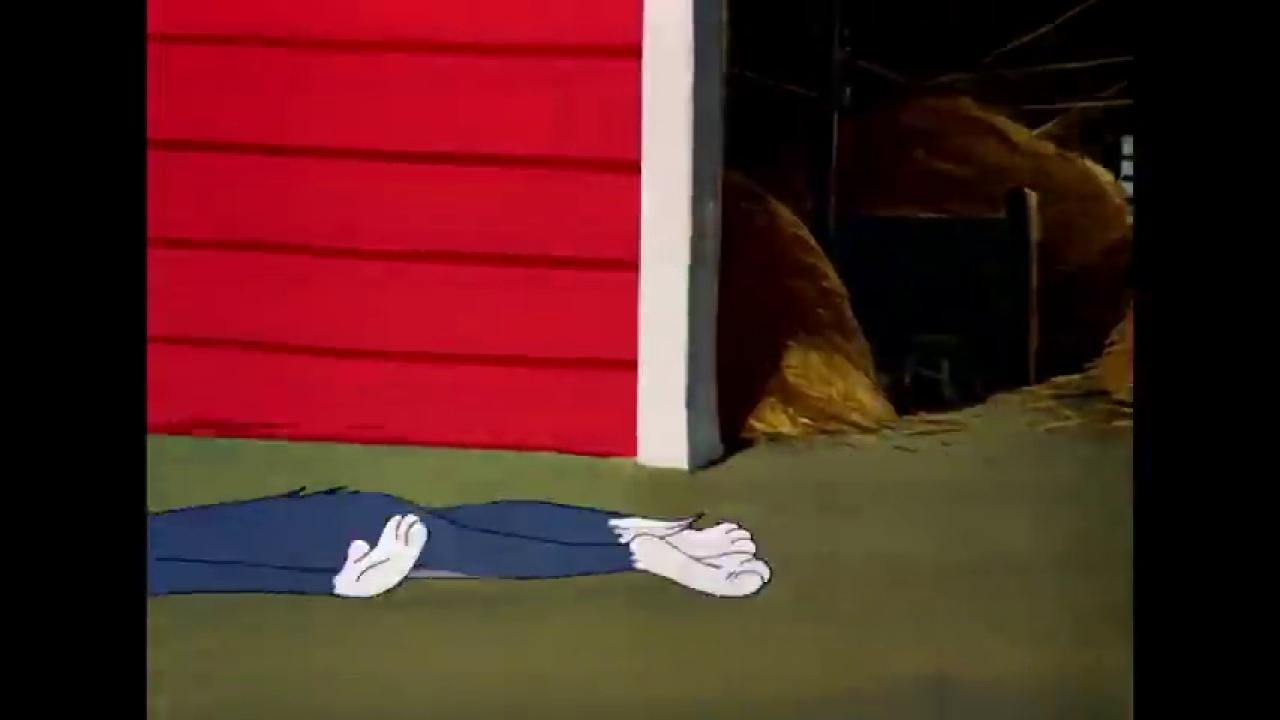Tom: (147, 483, 775, 602)
